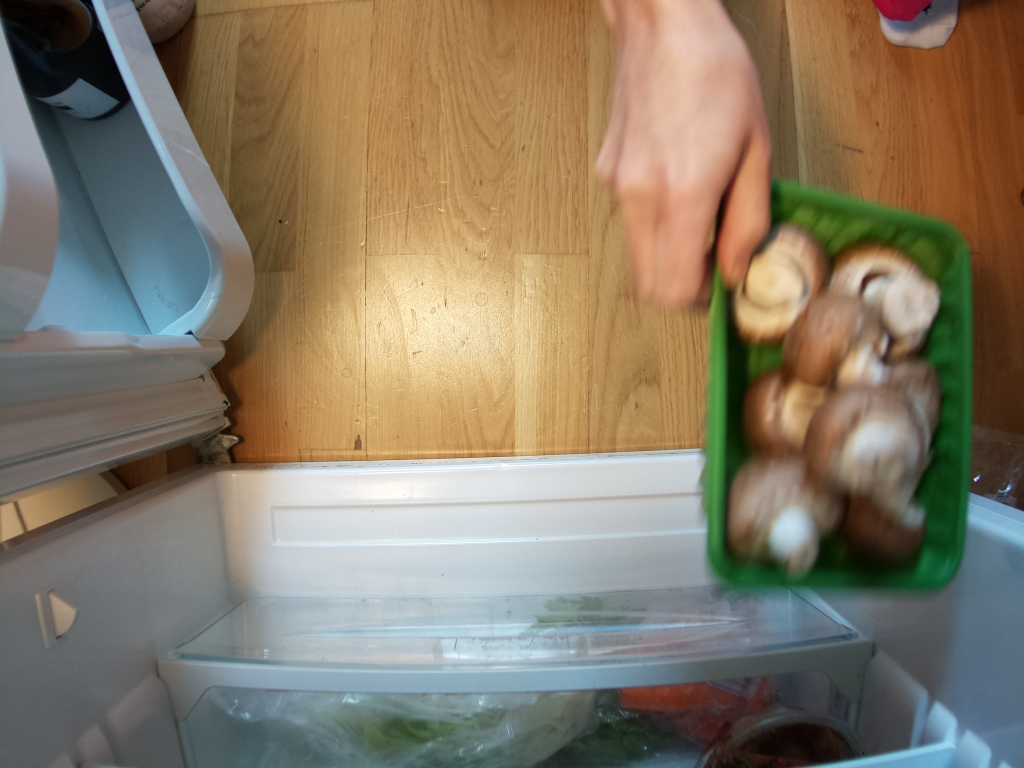mushrooms: (701, 174, 966, 590)
